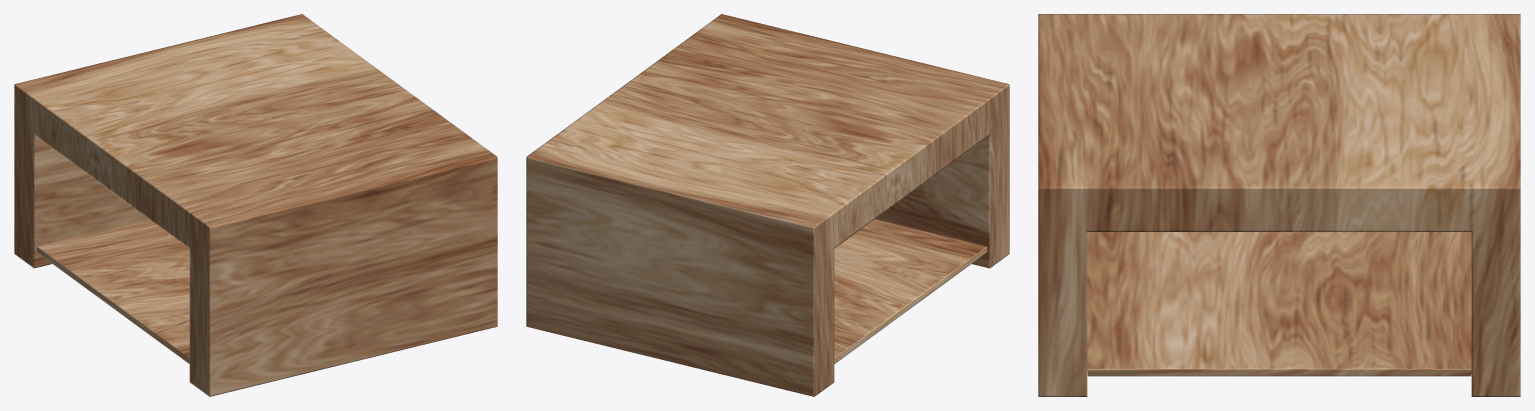
The model's file is table_03.obj.
The picture shows the model from 3 angles, left to right: view 1: azimuth 30°, elevation 25°; view 2: azimuth 150°, elevation 25°; view 3: azimuth 270°, elevation 25°; orthographic projection. The views are drawn at different scales.
Visible parts, largest first — view 1: table_03; view 2: table_03; view 3: table_03.
Part boxes in pixels (x1,y1,x2,y2): table_03: (14,14,497,396); table_03: (526,14,1009,396); table_03: (1038,14,1520,396).
Size of the model in its own units: 2.69 by 1.52 by 3.17.
